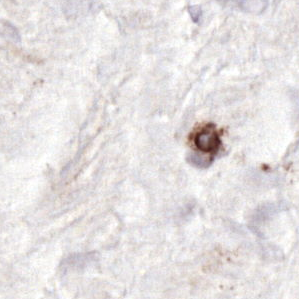Lymphocyte: (189, 121, 226, 156)
